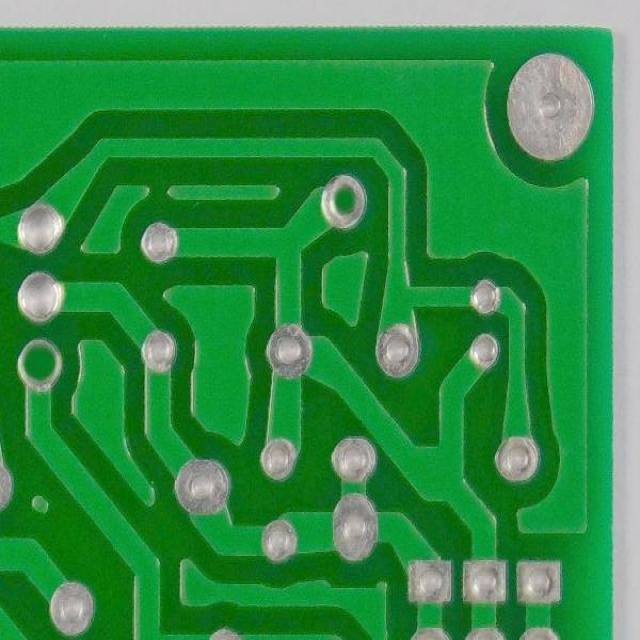missing hole: (319, 167, 372, 236), (12, 336, 70, 393)
